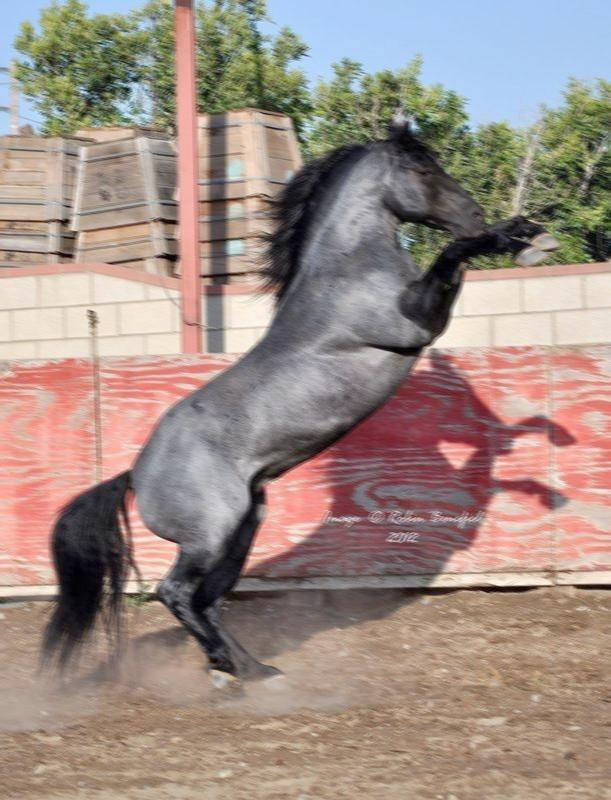horse: (32, 109, 562, 697)
